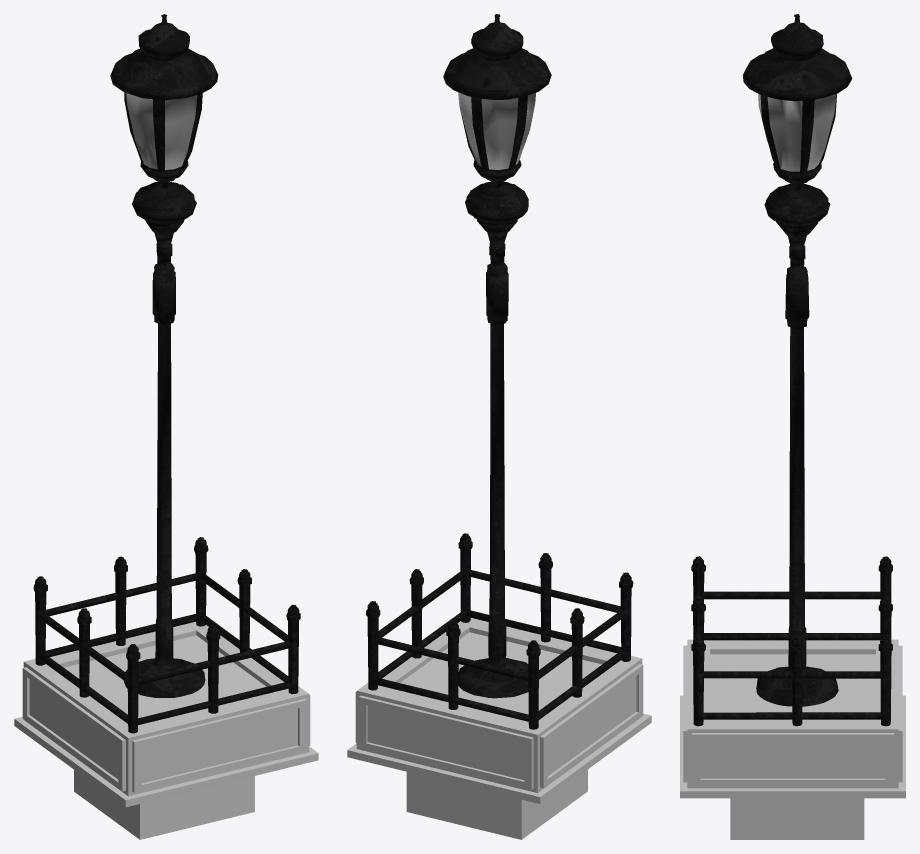
The model's file is objLamp.obj.
The picture shows the model from 3 angles, left to right: view 1: azimuth 30°, elevation 25°; view 2: azimuth 150°, elevation 25°; view 3: azimuth 270°, elevation 25°; orthographic projection.
Visible parts, largest first — view 1: LampRender:floor_Lamp, Lamp_lamp1, Lamp_LampRender:fence, Cube; view 2: LampRender:floor_Lamp, Lamp_lamp1, Lamp_LampRender:fence, Cube; view 3: LampRender:floor_Lamp, Lamp_lamp1, Lamp_LampRender:fence, Cube.
Part boxes in pixels (<box>): LampRender:floor_Lamp: <box>14,621,318,807</box>; Lamp_lamp1: <box>110,14,218,697</box>; Lamp_LampRender:fence: <box>33,537,300,733</box>; Cube: <box>74,770,254,839</box>; LampRender:floor_Lamp: <box>347,618,651,803</box>; Lamp_lamp1: <box>443,14,551,698</box>; Lamp_LampRender:fence: <box>366,533,633,729</box>; Cube: <box>406,769,587,839</box>; LampRender:floor_Lamp: <box>680,639,905,798</box>; Lamp_lamp1: <box>742,14,852,706</box>; Lamp_LampRender:fence: <box>691,556,892,726</box>; Cube: <box>730,798,864,839</box>.
Size of the model in its own units: 3.36 by 13.09 by 3.36.
